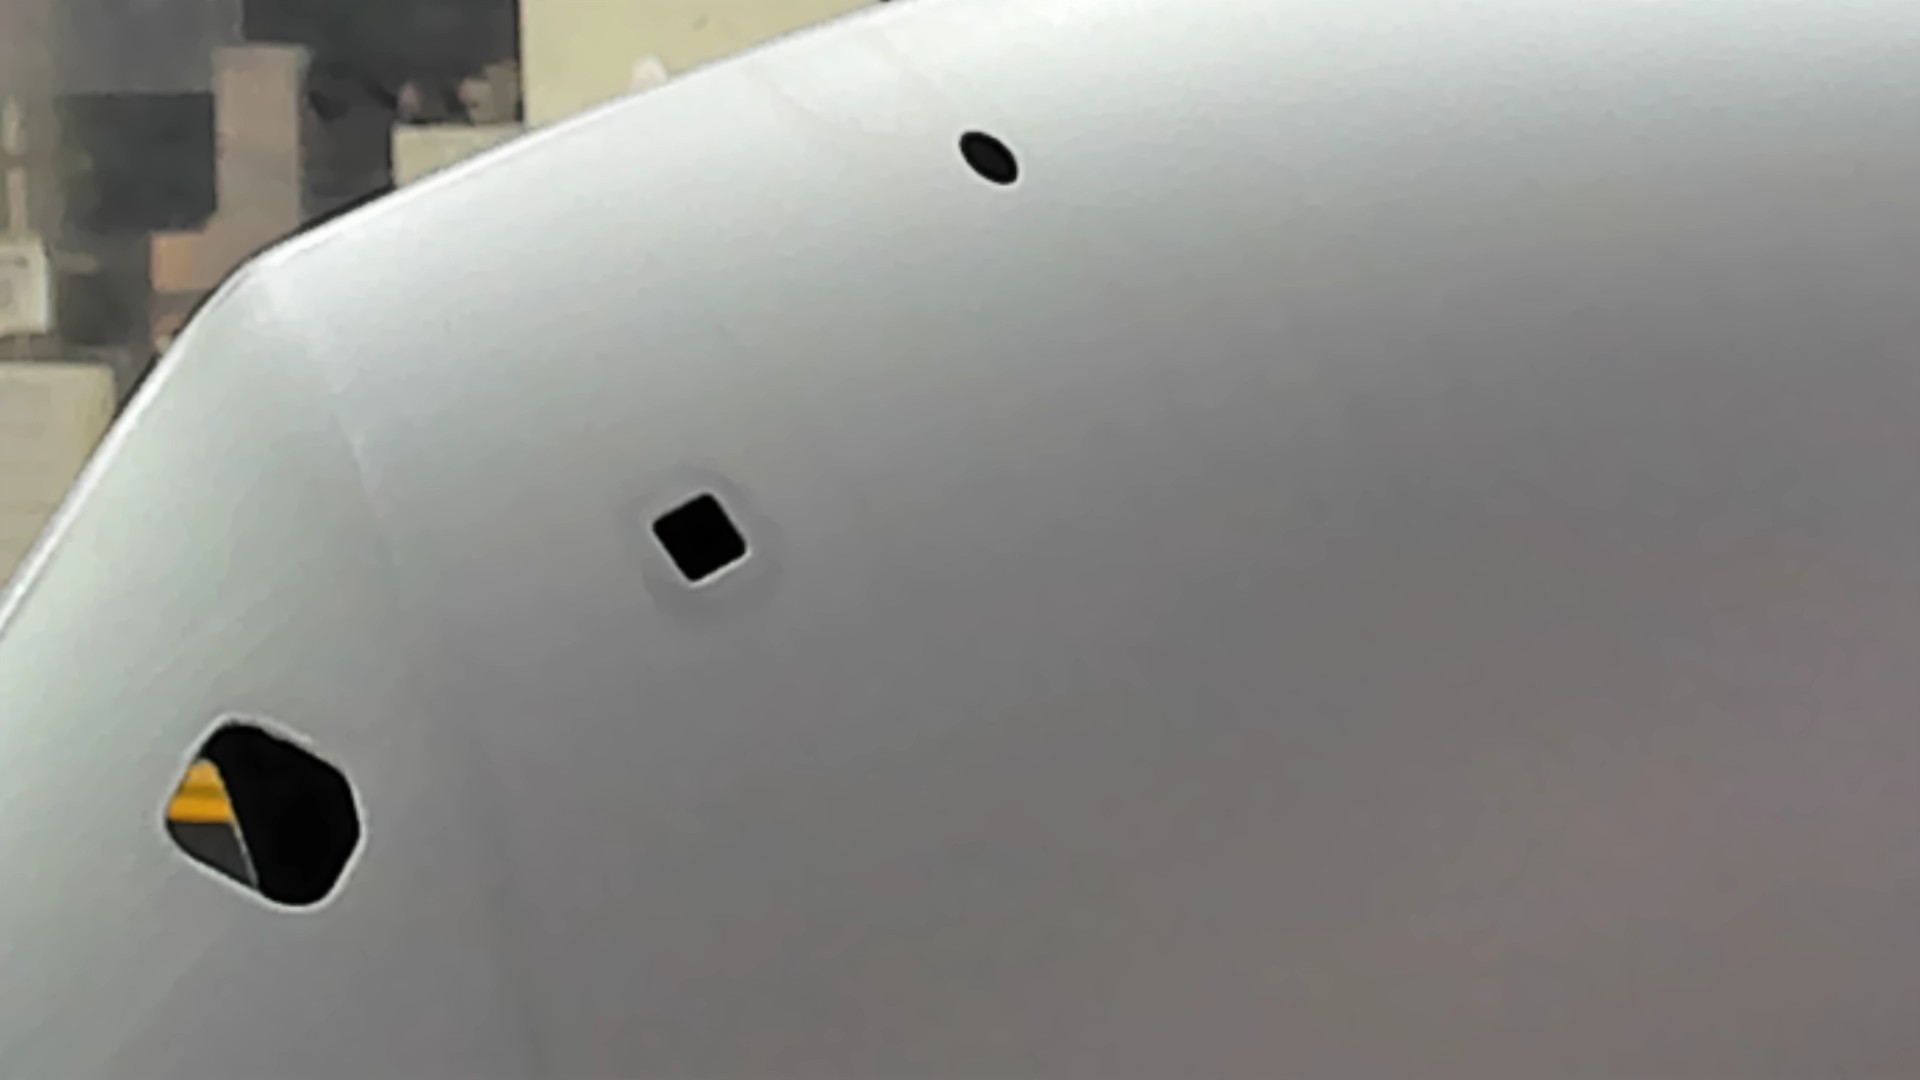chico: (953, 127, 1023, 191)
grande: (160, 711, 371, 916)
mediano: (642, 488, 757, 589)
